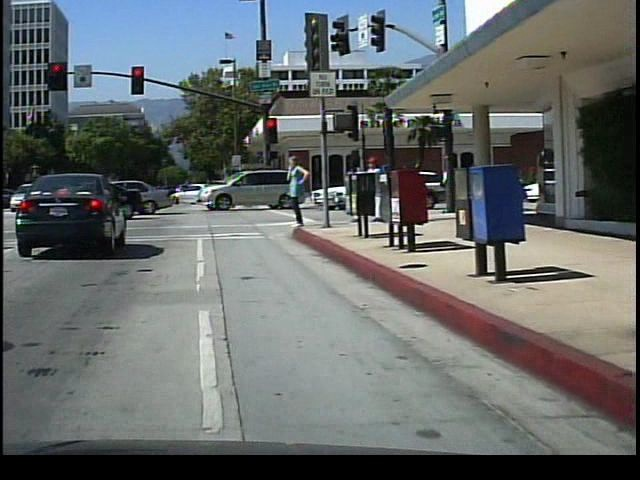person: (285, 148, 315, 229), (363, 150, 389, 222), (343, 149, 366, 221)
